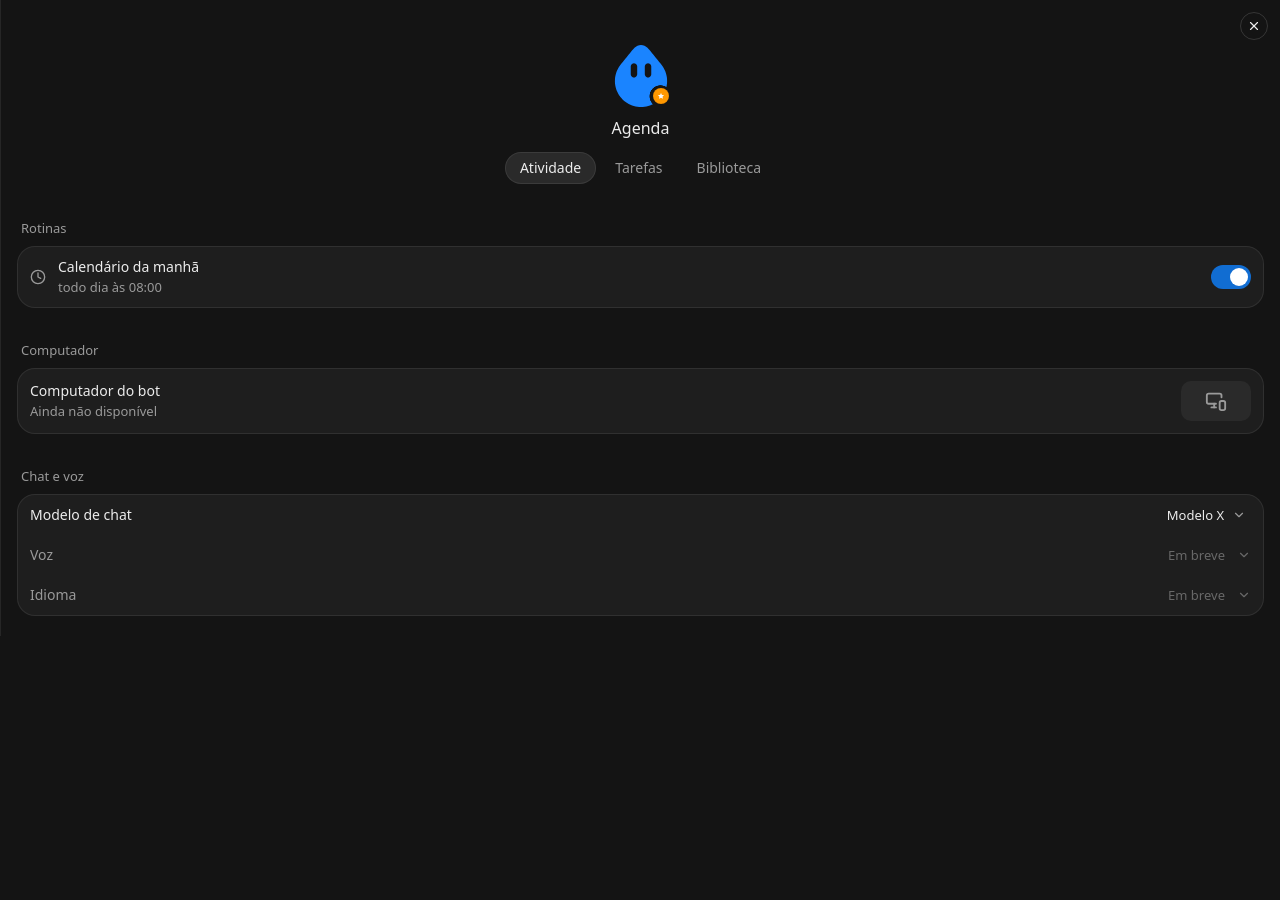
the Rotinas list › has a switch on each row that pauses and resumes the routine, like the detail's button
Later steps or results of the test are not shown.
Click the switch with test id "routine-toggle" at (1231, 277), box [1211,265,1251,289]
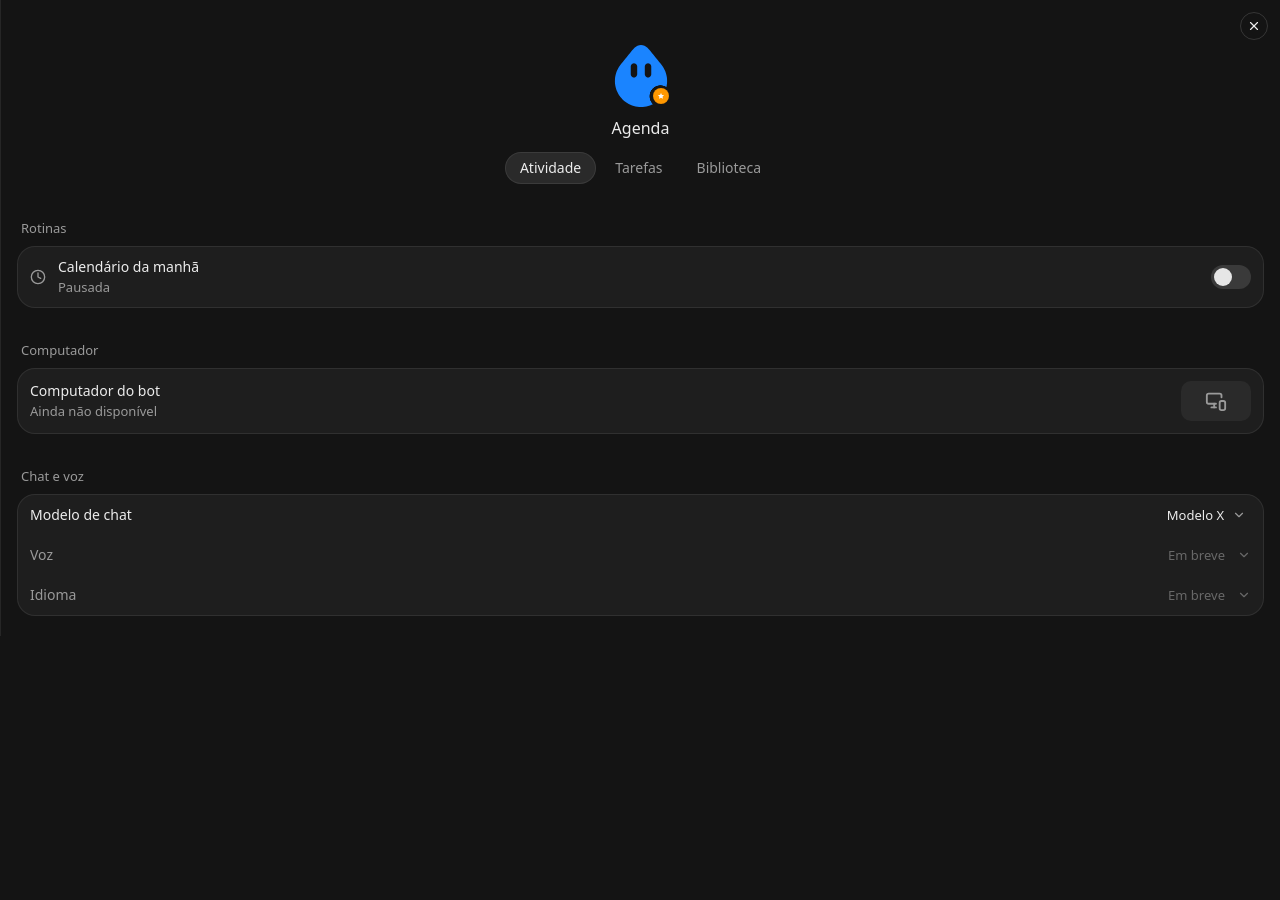
Expected: the switch with test id "routine-toggle" is not checked, [1211,265,1251,289]
Expected: the button with test id "routine-row" has attribute data-status="paused", [18,247,1199,307]
